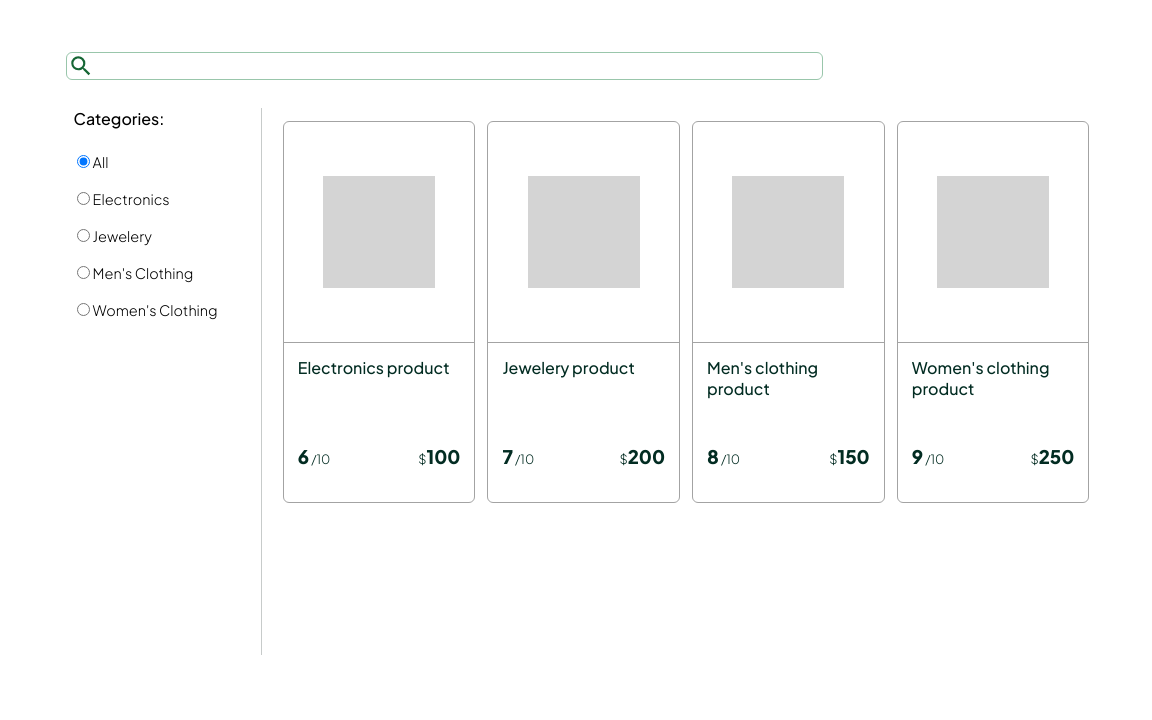
filter products › shows only men's clothing products when 'men's clothing' filter is clicked
The width and height of the screenshot is (1152, 720).
Click the radio button labelled "Men's Clothing": (83, 272) x1=77 y1=266 x2=90 y2=279
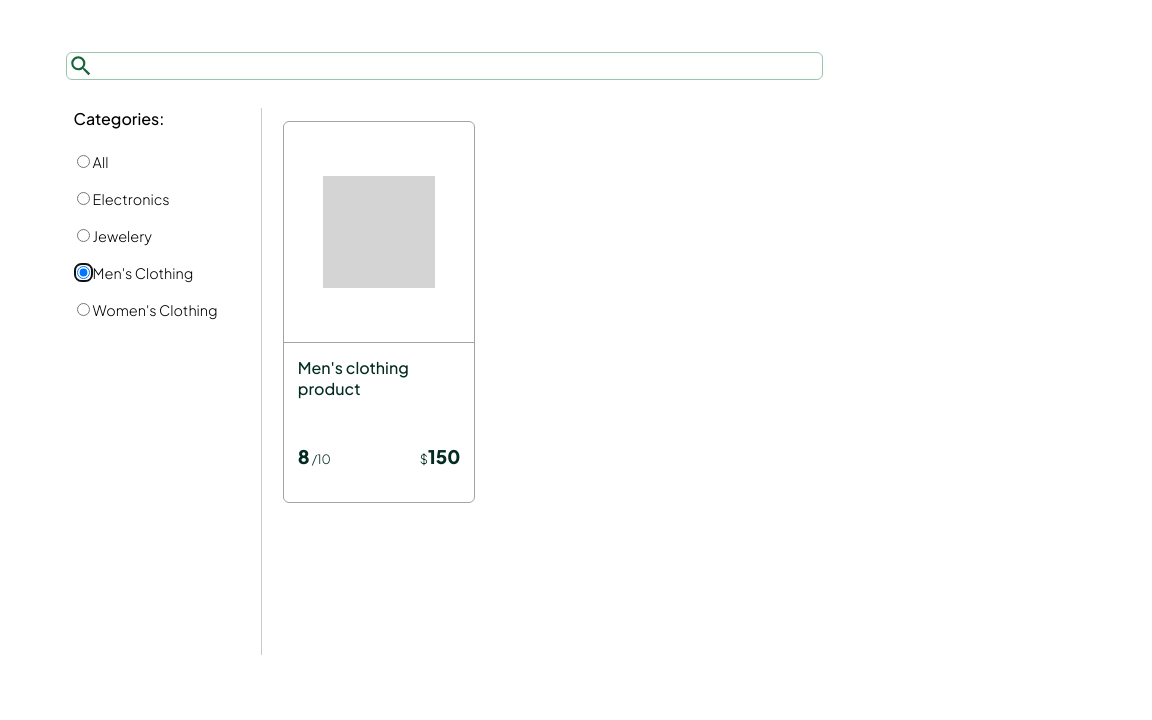
Now the link "Electronics product" is gone
Now the link "Jewelery product" is gone
Now the link "Women's clothing product" is gone
